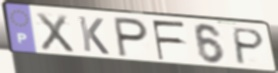6: (193, 23, 226, 66)
F: (150, 19, 188, 62)
K: (76, 15, 112, 57)
P: (113, 16, 151, 60), (232, 26, 267, 67)
X: (34, 11, 77, 55)
